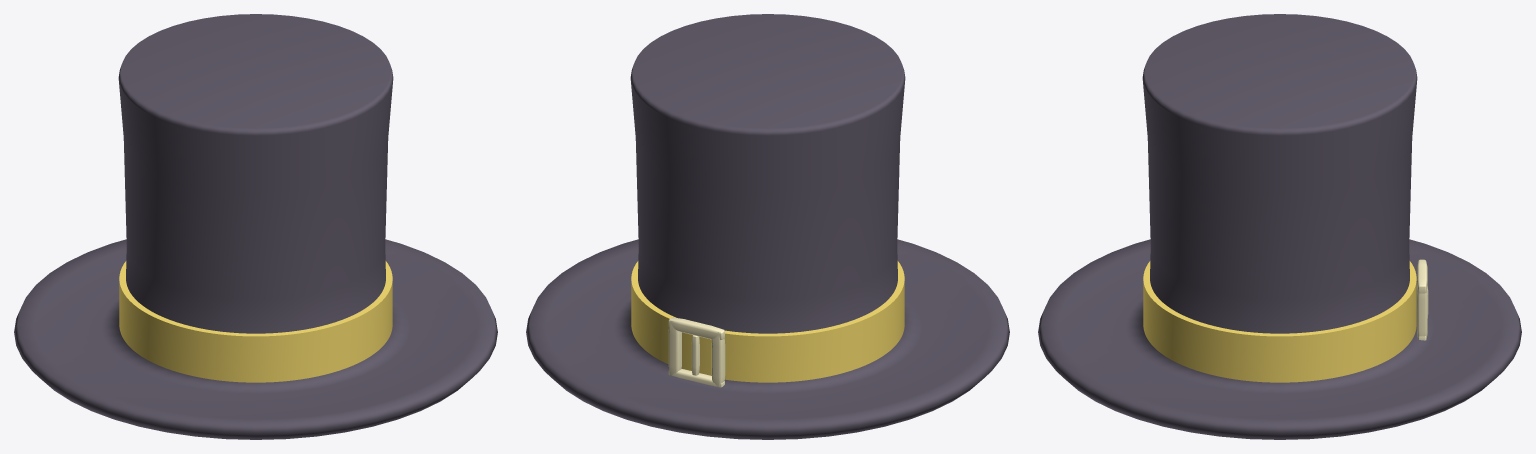
File: GildedTopHat.glb
The picture shows the model from 3 angles, left to right: view 1: azimuth 30°, elevation 25°; view 2: azimuth 150°, elevation 25°; view 3: azimuth 270°, elevation 25°; orthographic projection.
Parts seen in each view (by area): view 1: TopHatBody, TopHatBand; view 2: TopHatBody, TopHatBand, TopHatBuckle; view 3: TopHatBody, TopHatBand, TopHatBuckle.
Boxes of the visible parts, x1,y1,x2,y2 form: TopHatBody: (14, 14, 497, 439); TopHatBand: (119, 261, 392, 382); TopHatBody: (526, 14, 1009, 439); TopHatBand: (631, 261, 904, 382); TopHatBuckle: (668, 317, 725, 387); TopHatBody: (1038, 14, 1521, 439); TopHatBand: (1143, 261, 1416, 382); TopHatBuckle: (1417, 259, 1428, 340).
Bounding box in the file's own units: 1.31 × 0.825 × 1.31.
